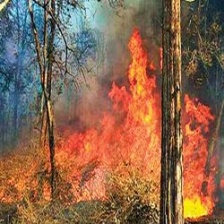fire: (65, 134, 205, 191), (127, 37, 163, 136)
